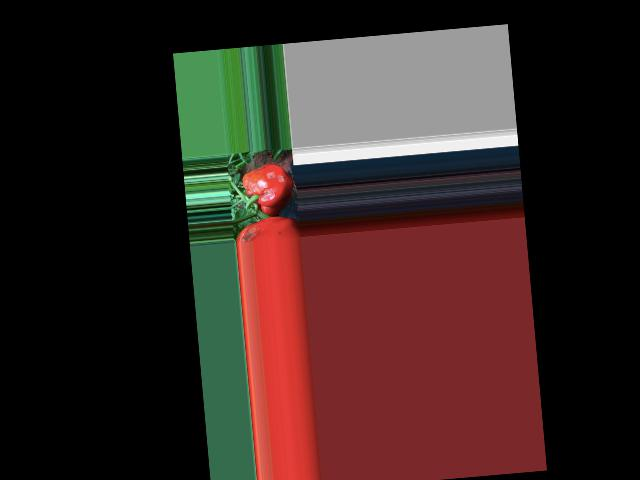bell_pepper: (236, 164, 298, 217)
